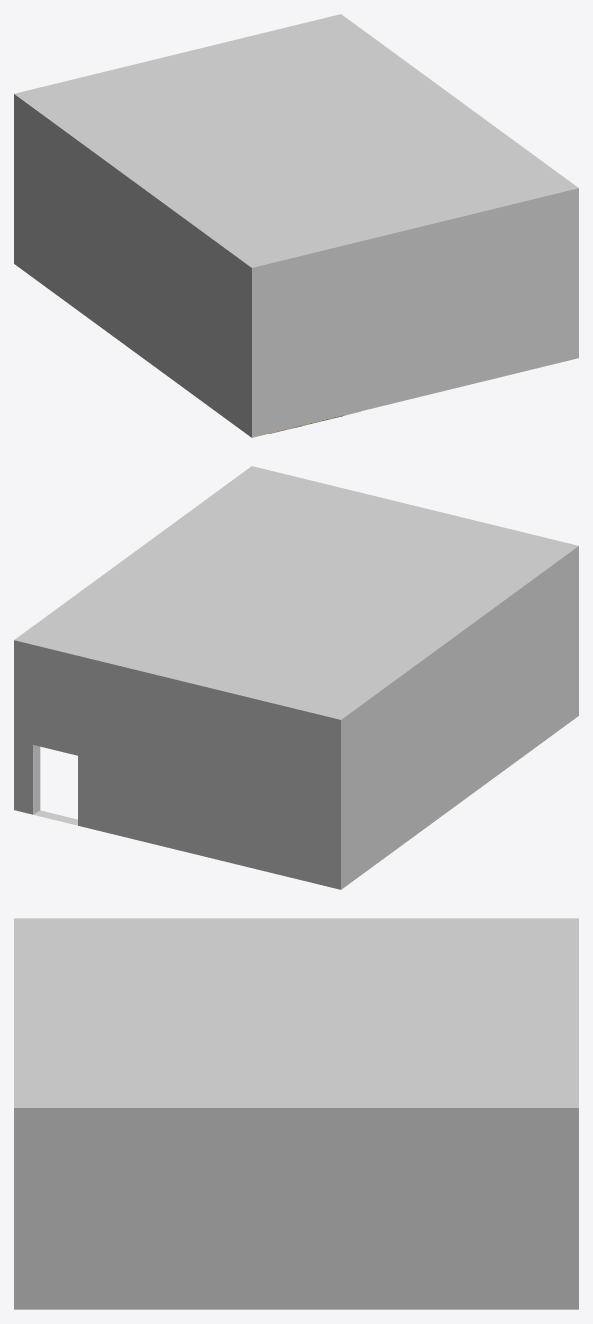
The picture shows the model from 3 angles, top to bottom: view 1: azimuth 30°, elevation 25°; view 2: azimuth 150°, elevation 25°; view 3: azimuth 270°, elevation 25°; orthographic projection. The views are drawn at different scales.
Parts seen in each view (by area): view 1: Cube; view 2: Cube; view 3: Cube.
Part boxes in pixels (box(x1,y1,x2,y2)): Cube: box(14, 14, 578, 437); Cube: box(14, 466, 578, 889); Cube: box(14, 918, 578, 1309).
Bounding box in the file's own units: 20.52 × 10.3 × 25.84.
2 materials, 2 textured.
